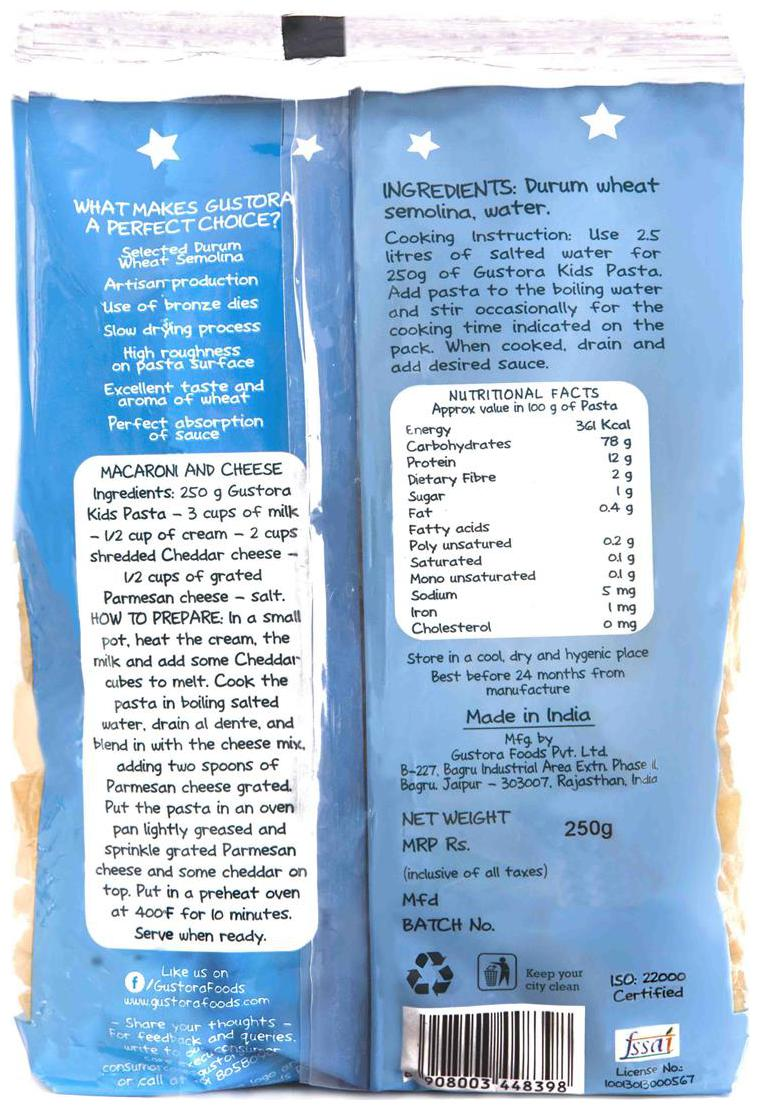fssai: (619, 1029, 679, 1060)
